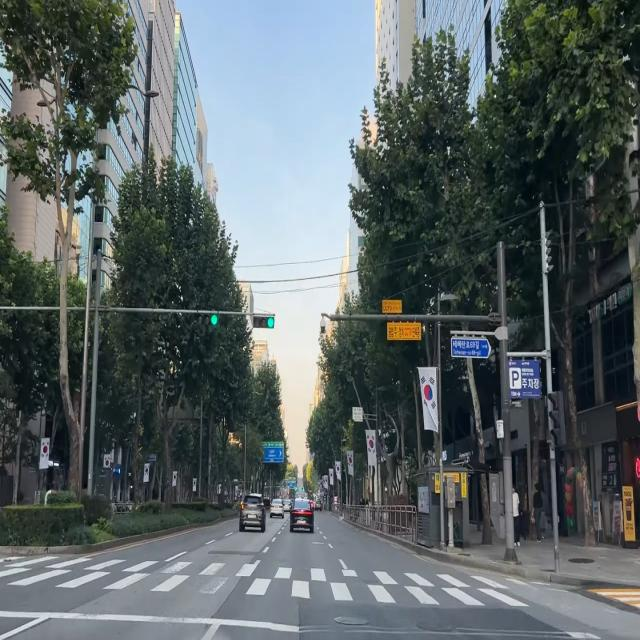Green Light: (211, 314, 218, 326), (267, 317, 274, 328)
